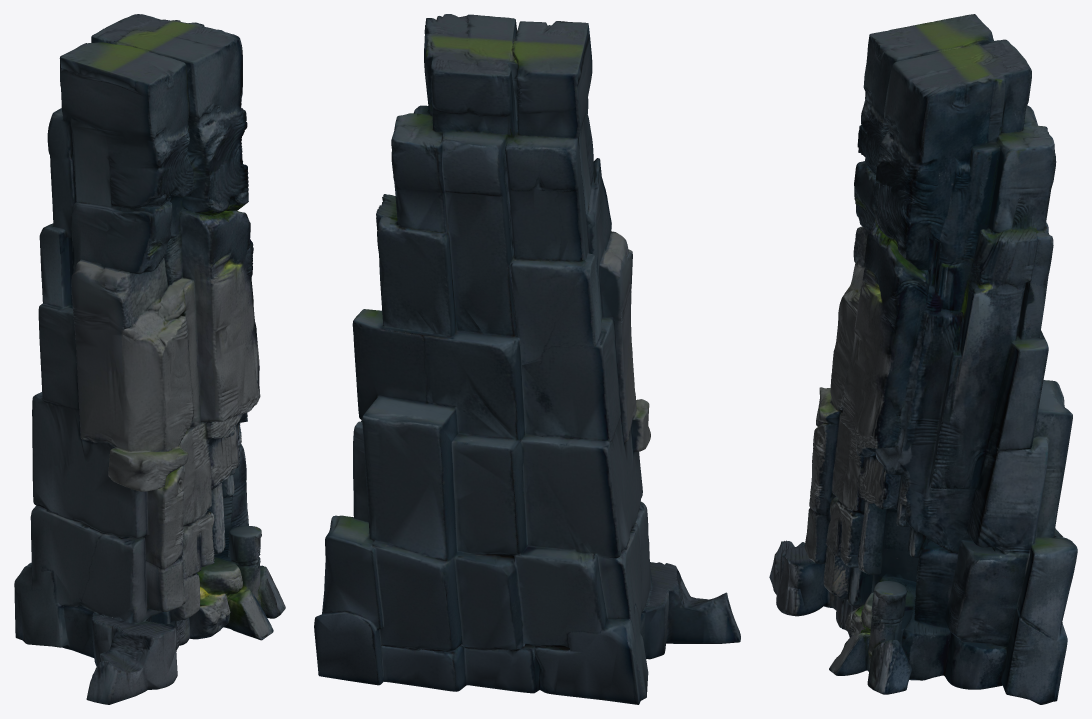
The model's file is sea-cliff.glb.
3 views of the same model, side by side, from view 1: azimuth 30°, elevation 25°; view 2: azimuth 150°, elevation 25°; view 3: azimuth 270°, elevation 25° (orthographic). The views are drawn at different scales.
Visible parts, largest first — view 1: tripo_node_8b9004b6-121a-44f2-8f44-989bbcf400eb; view 2: tripo_node_8b9004b6-121a-44f2-8f44-989bbcf400eb; view 3: tripo_node_8b9004b6-121a-44f2-8f44-989bbcf400eb.
Boxes of the visible parts, left/top/right/bottom form: tripo_node_8b9004b6-121a-44f2-8f44-989bbcf400eb: left=14, top=14, right=285, bottom=704; tripo_node_8b9004b6-121a-44f2-8f44-989bbcf400eb: left=314, top=14, right=740, bottom=704; tripo_node_8b9004b6-121a-44f2-8f44-989bbcf400eb: left=769, top=14, right=1077, bottom=704.
Bounding box in the file's own units: 0.4678 × 0.9784 × 0.462.
Materials: 1 (1 with a texture image).
